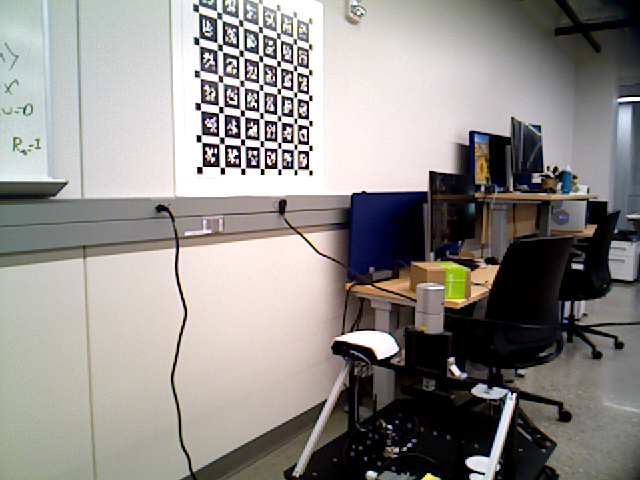painting4: (162, 1, 324, 191)
